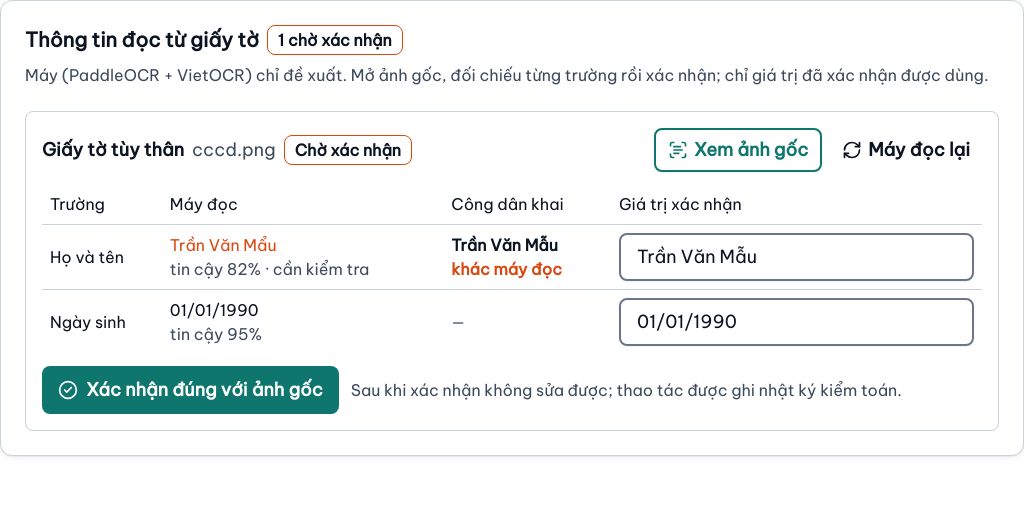
it: cán bộ xác nhận thông tin đọc từ giấy tờ (HITL) › lỗi máy chủ (đã có người xác nhận) thì báo câu của máy chủ
What coordinates should you click on to do the following:
click the button "Xác nhận đúng với ảnh gốc"
I would click on:
 (190, 390)
Its box is [42, 366, 339, 414].
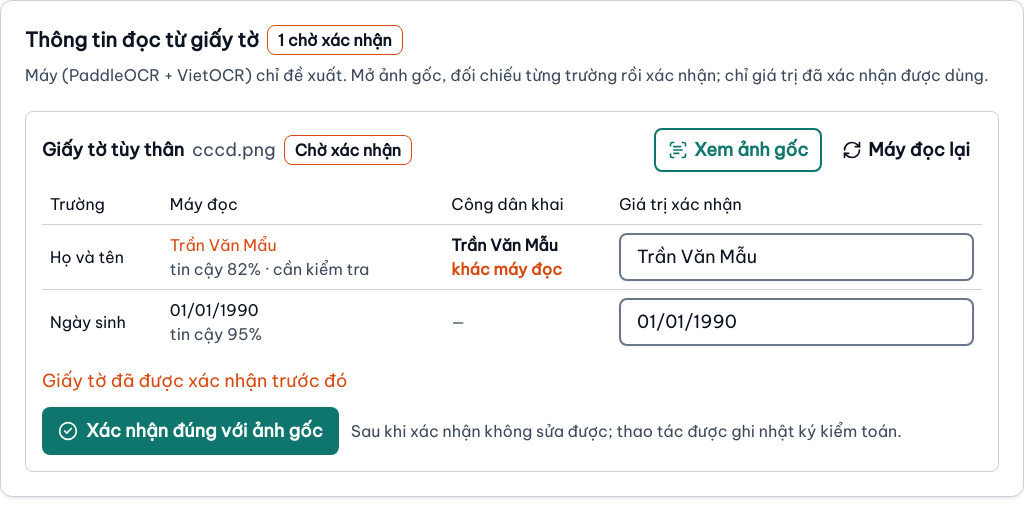
Result: the message shows "đã được xác nhận trước đó" at [42, 368, 348, 392]
